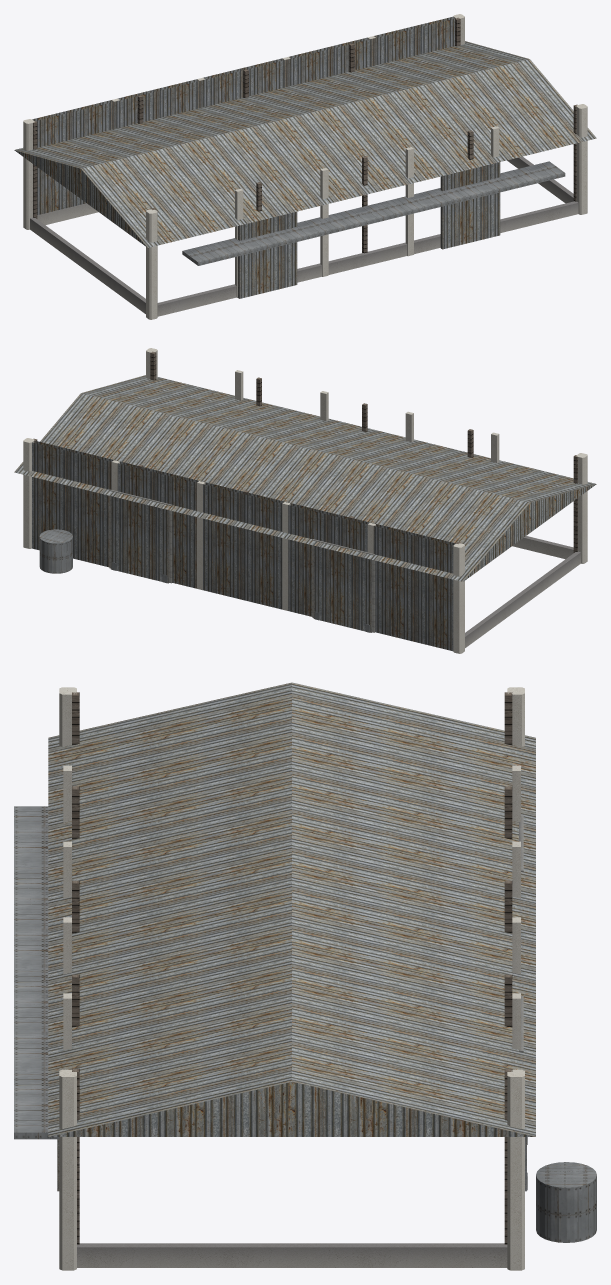
The model's file is equipment-shed_lod0.gltf.
3 views of the same model, one above another, from view 1: azimuth 30°, elevation 25°; view 2: azimuth 150°, elevation 25°; view 3: azimuth 270°, elevation 25° (orthographic). The views are drawn at different scales.
Visible parts, largest first — view 1: equipment-shed_roof, equipment-shed_walls, equipment-shed__v4_stone_detail, equipment-shed__v4_metal_detail, equipment-shed__sliding_door_b, equipment-shed__sliding_door_a, equipment-shed_posts; view 2: equipment-shed_roof, equipment-shed_walls, equipment-shed__v4_stone_detail, equipment-shed_fen_21-corrugated-steel_1, equipment-shed__fuel_tank, equipment-shed_posts, equipment-shed_fen_15-concrete-boardformed_0; view 3: equipment-shed_roof, equipment-shed__v4_stone_detail, equipment-shed__v4_metal_detail, equipment-shed_posts, equipment-shed__fuel_tank.
Boxes of the visible parts, x1,y1,x2,y2 form: equipment-shed_roof: (14,41,596,247); equipment-shed_walls: (32,16,454,215); equipment-shed__v4_stone_detail: (23,14,587,319); equipment-shed__v4_metal_detail: (182,161,565,265); equipment-shed__sliding_door_b: (440,162,500,249); equipment-shed__sliding_door_a: (238,211,297,298); equipment-shed_posts: (33,17,577,253); equipment-shed_roof: (14,375,596,581); equipment-shed_walls: (32,441,454,651); equipment-shed__v4_stone_detail: (23,348,587,653); equipment-shed_fen_21-corrugated-steel_1: (110,496,372,632); equipment-shed__fuel_tank: (39,529,72,573); equipment-shed_posts: (33,351,577,552); equipment-shed_fen_15-concrete-boardformed_0: (109,489,375,632); equipment-shed_roof: (48,682,535,1136); equipment-shed__v4_stone_detail: (59,687,524,1270); equipment-shed__v4_metal_detail: (14,806,59,1139); equipment-shed_posts: (72,692,512,1244); equipment-shed__fuel_tank: (536,1162,596,1242).
Bounding box in the file's own units: 31 × 7 × 19.12.
